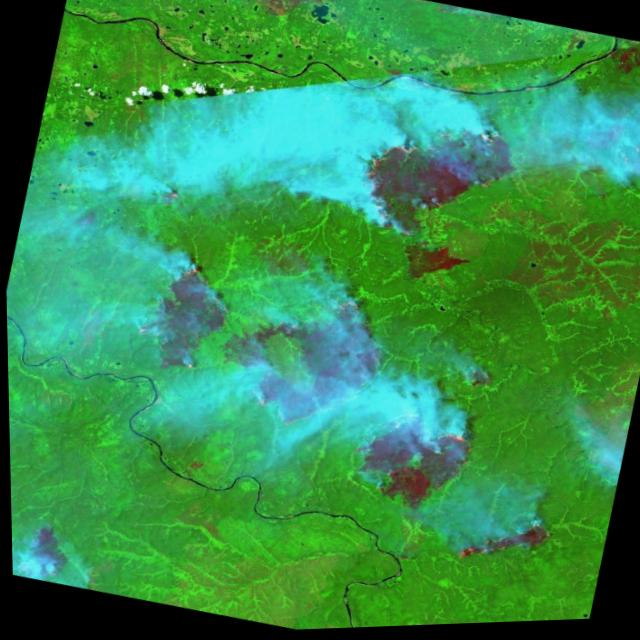fire: (210, 268, 399, 454), (339, 95, 528, 257), (123, 246, 227, 381), (438, 503, 556, 583), (406, 413, 476, 488), (9, 512, 75, 585), (145, 164, 195, 212)
